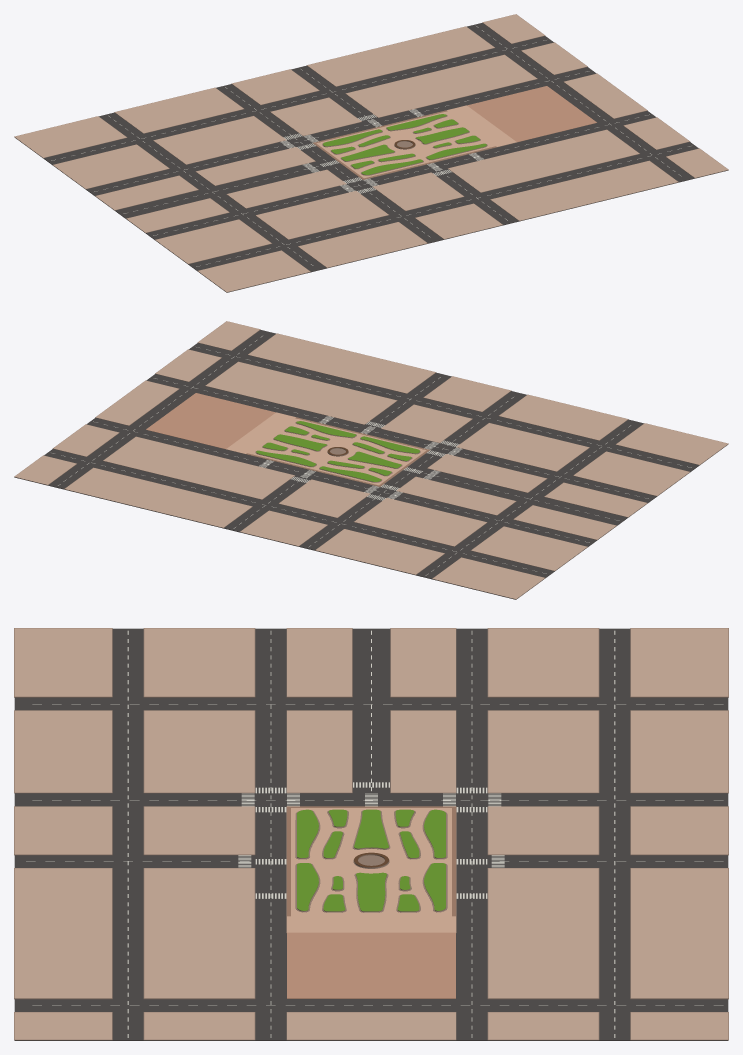
The model's file is ground.fbx.
The picture shows the model from 3 angles, top to bottom: view 1: azimuth 30°, elevation 25°; view 2: azimuth 150°, elevation 25°; view 3: azimuth 270°, elevation 25°; orthographic projection. The views are drawn at different scales.
Parts seen in each view (by area): view 1: ground; view 2: ground; view 3: ground.
Boxes of the visible parts, bbox=[...] form: ground: bbox=[14, 14, 728, 292]; ground: bbox=[14, 321, 728, 599]; ground: bbox=[14, 628, 728, 1040].
Bounding box in the file's own units: 300 × 0.88 × 220.
